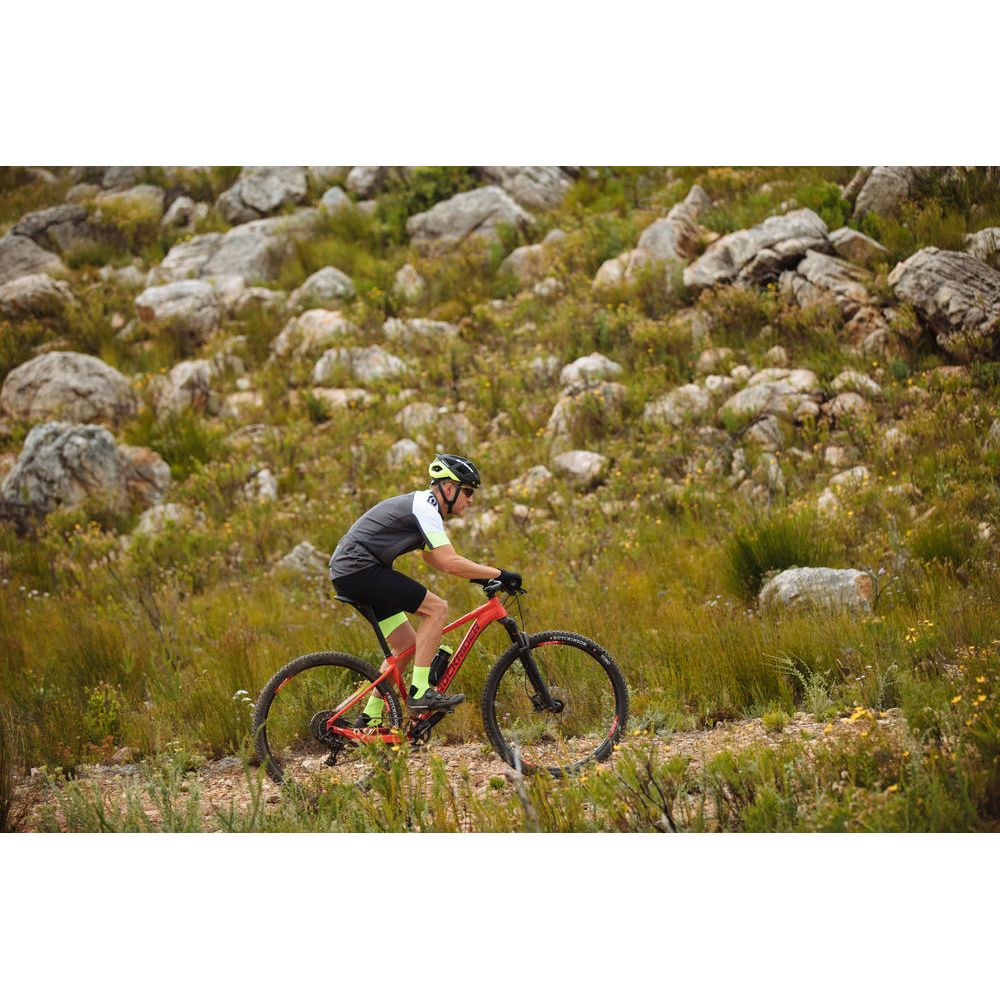MountainBike: (253, 578, 633, 790)
